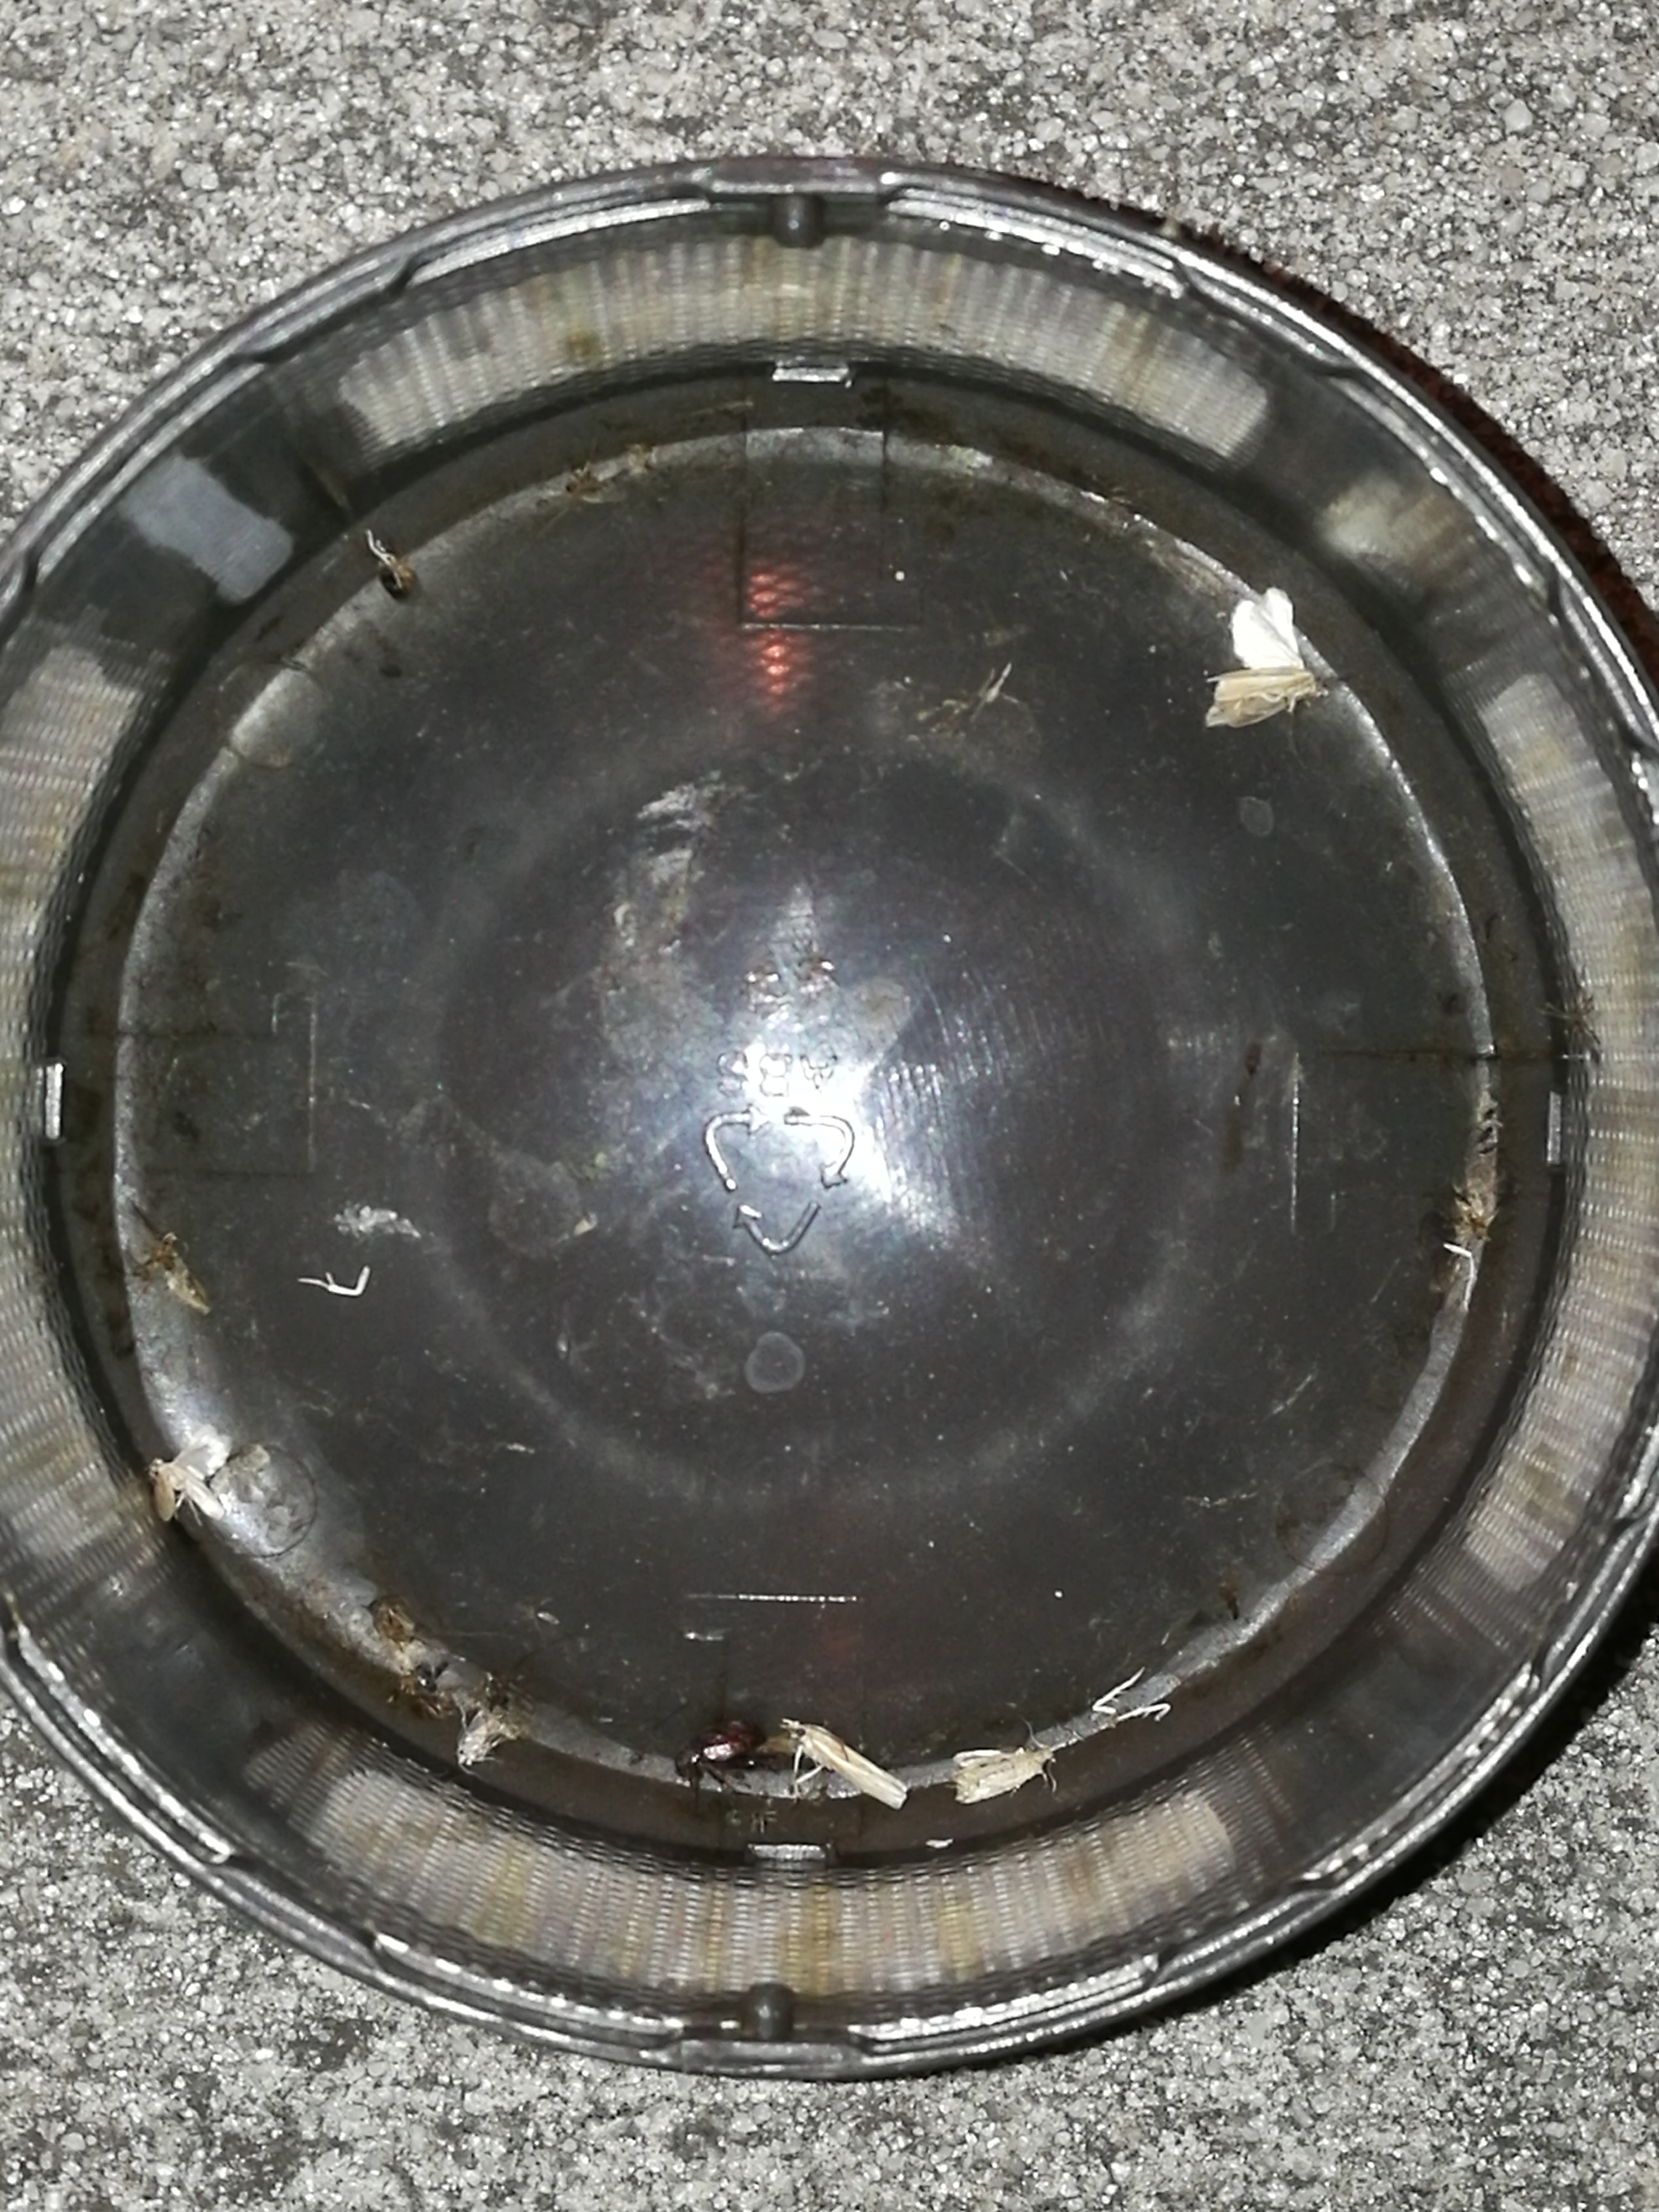beetle: (676, 1721, 765, 1773)
mosquito: (784, 1717, 908, 1810)
moth: (153, 1426, 230, 1517), (1208, 671, 1316, 728), (1230, 587, 1302, 669), (951, 1749, 1054, 1803)
